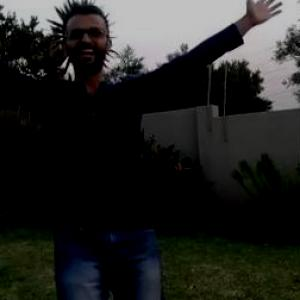takeoff: (1, 2, 261, 299)
